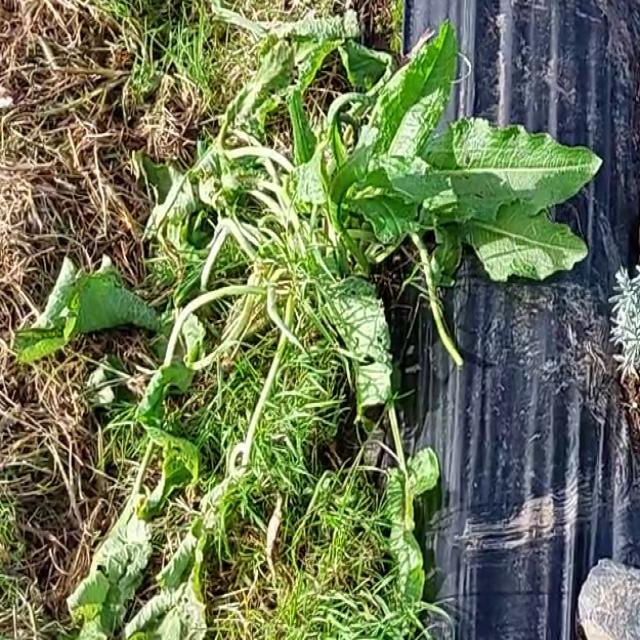organic waste: (174, 49, 576, 371), (36, 393, 320, 640), (5, 234, 329, 428)
